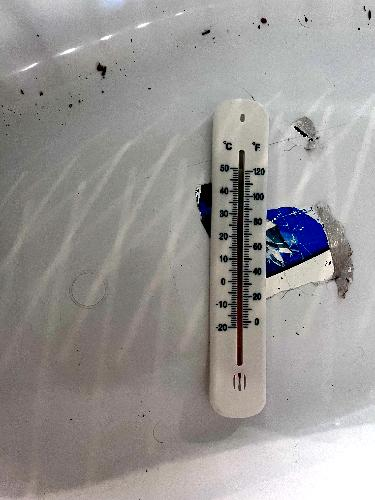thermo: (210, 101, 268, 411)
